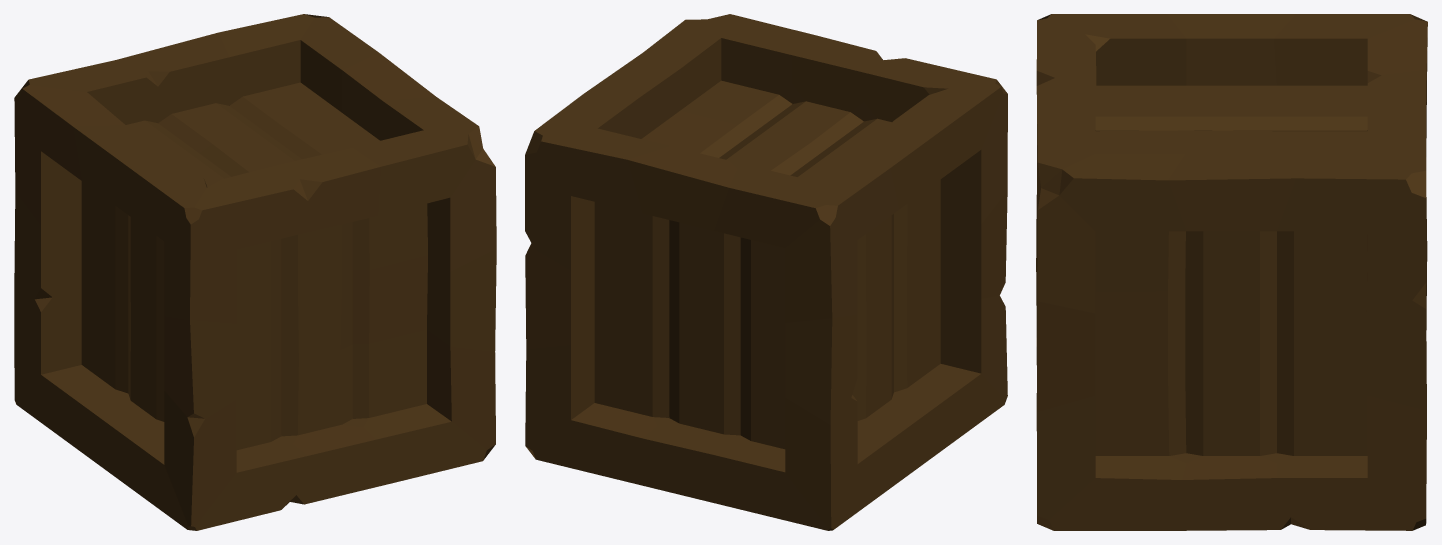
File: crate.glb
The picture shows the model from 3 angles, left to right: view 1: azimuth 30°, elevation 25°; view 2: azimuth 150°, elevation 25°; view 3: azimuth 270°, elevation 25°; orthographic projection. The views are drawn at different scales.
Parts seen in each view (by area): view 1: crate; view 2: crate; view 3: crate.
Boxes of the visible parts, <box> form: crate: <box>14,14,496,530</box>; crate: <box>525,14,1007,530</box>; crate: <box>1036,14,1427,530</box>.
Bounding box in the file's own units: 1.2 × 1.21 × 1.21.
